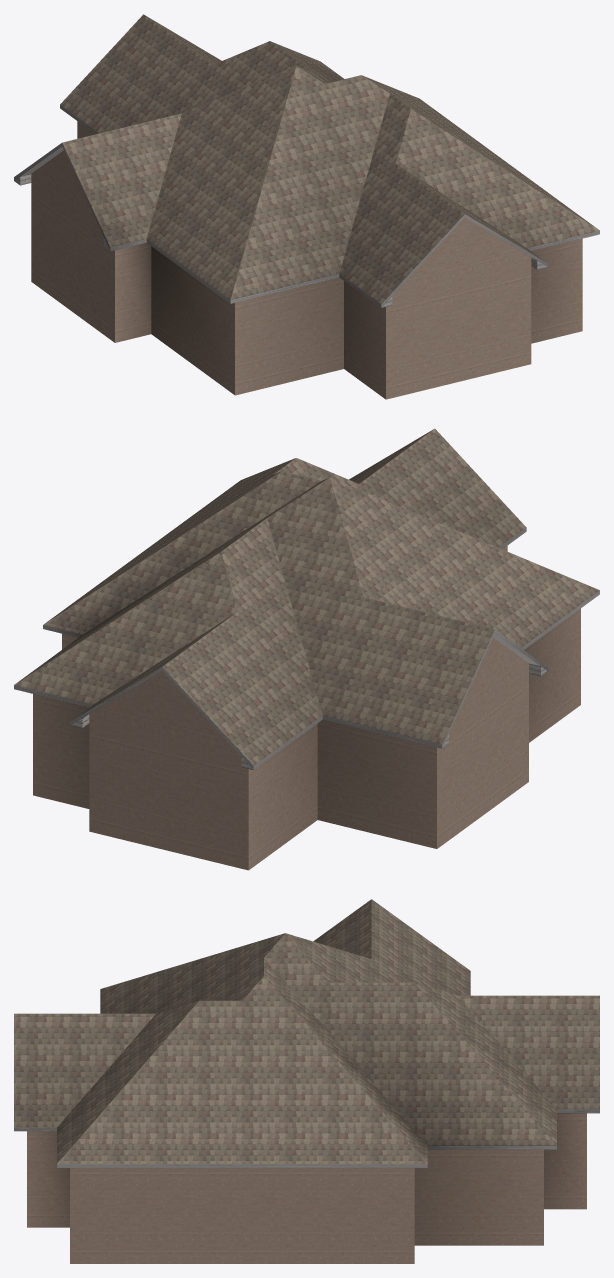
The model's file is house_010.glb.
The picture shows the model from 3 angles, top to bottom: view 1: azimuth 30°, elevation 25°; view 2: azimuth 150°, elevation 25°; view 3: azimuth 270°, elevation 25°; orthographic projection. The views are drawn at different scales.
Visible parts, largest first — view 1: Export; view 2: Export; view 3: Export.
Part boxes in pixels (x1,y1,x2,y2): Export: (14, 14, 599, 399); Export: (14, 428, 599, 870); Export: (14, 899, 599, 1263).
Size of the model in its own units: 10.6 by 6.14 by 13.6.
3 materials, 3 textured.
